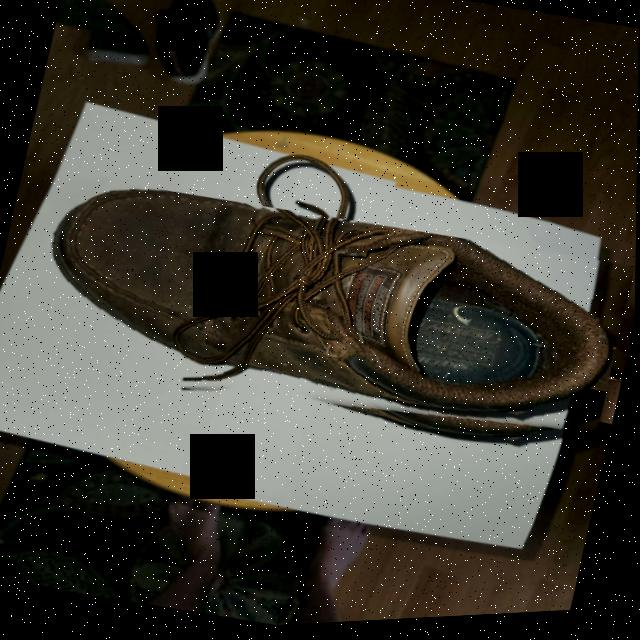shoe: (19, 151, 637, 493)
